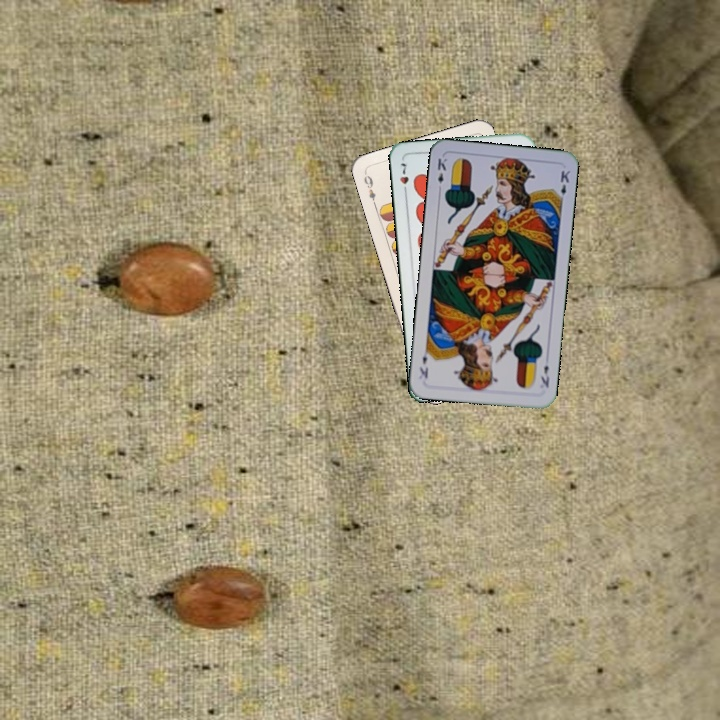E9: (360, 169, 379, 209)
EK: (433, 154, 449, 194), (537, 361, 552, 390)
H7: (396, 159, 411, 198)
